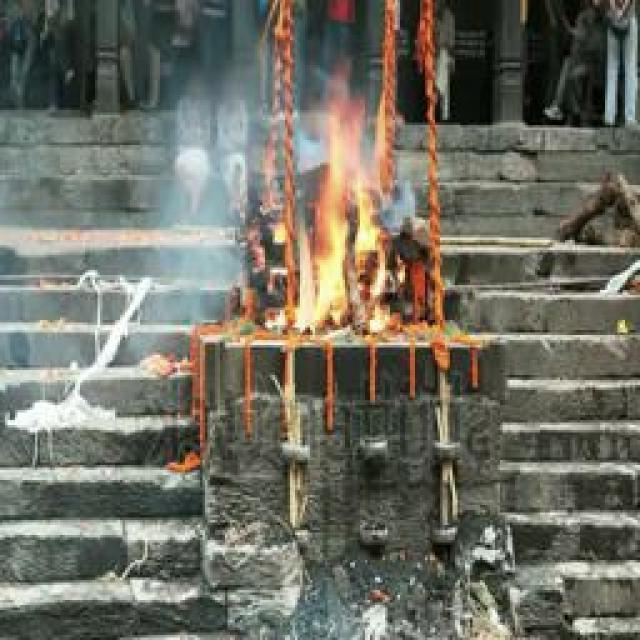Fire: (293, 93, 392, 331)
